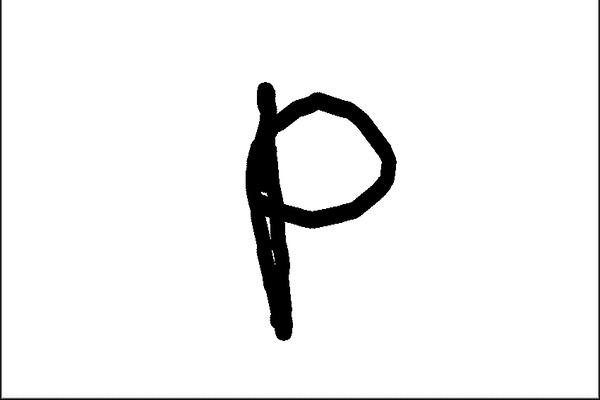P: (231, 70, 400, 347)
